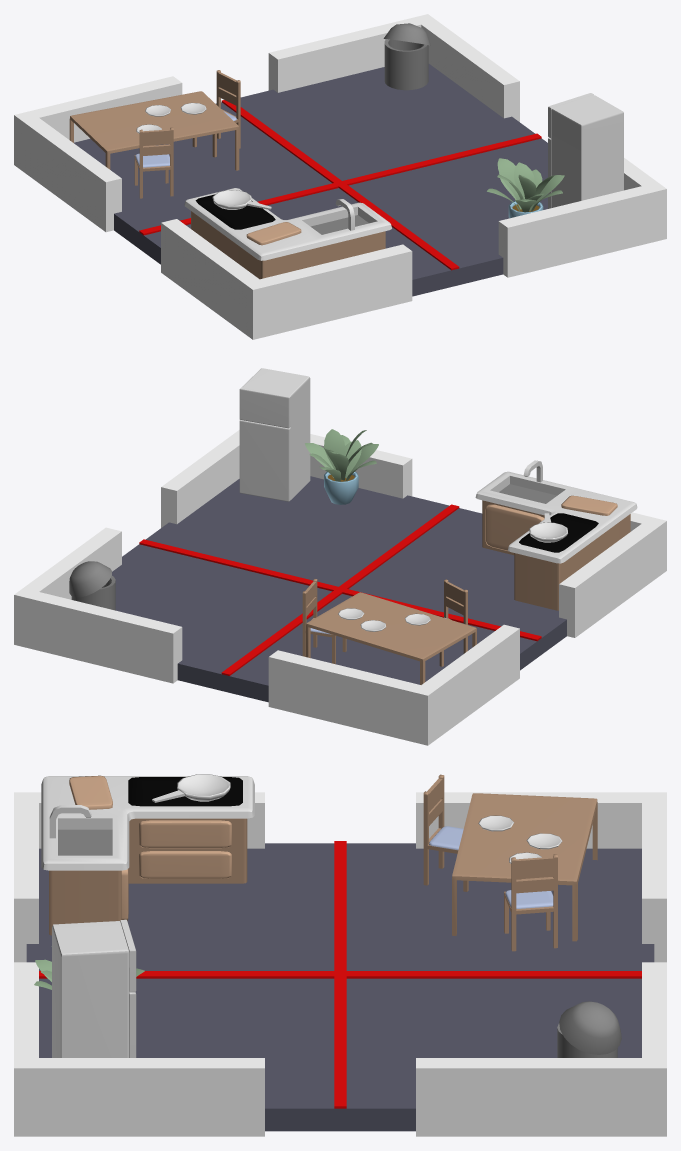
Rendered from X_Cuisine_Classique.fbx.
3 views of the same model, one above another, from view 1: azimuth 30°, elevation 25°; view 2: azimuth 150°, elevation 25°; view 3: azimuth 270°, elevation 25° (orthographic). The views are drawn at different scales.
Parts seen in each view (by area): view 1: X_Cuisine_Classique; view 2: X_Cuisine_Classique; view 3: X_Cuisine_Classique.
Part boxes in pixels (x1,y1,x2,y2): X_Cuisine_Classique: (14, 14, 666, 339); X_Cuisine_Classique: (14, 368, 666, 745); X_Cuisine_Classique: (14, 774, 666, 1136).
Size of the model in its own units: 26 by 7.3 by 26.
